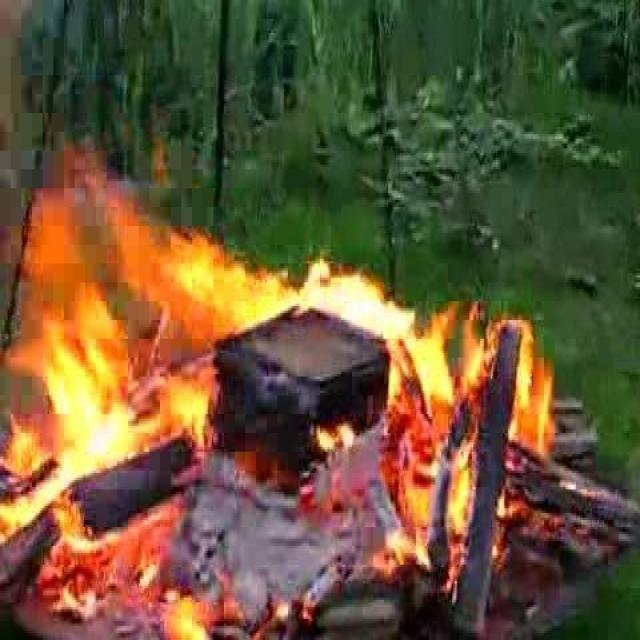fire: (1, 81, 576, 626)
